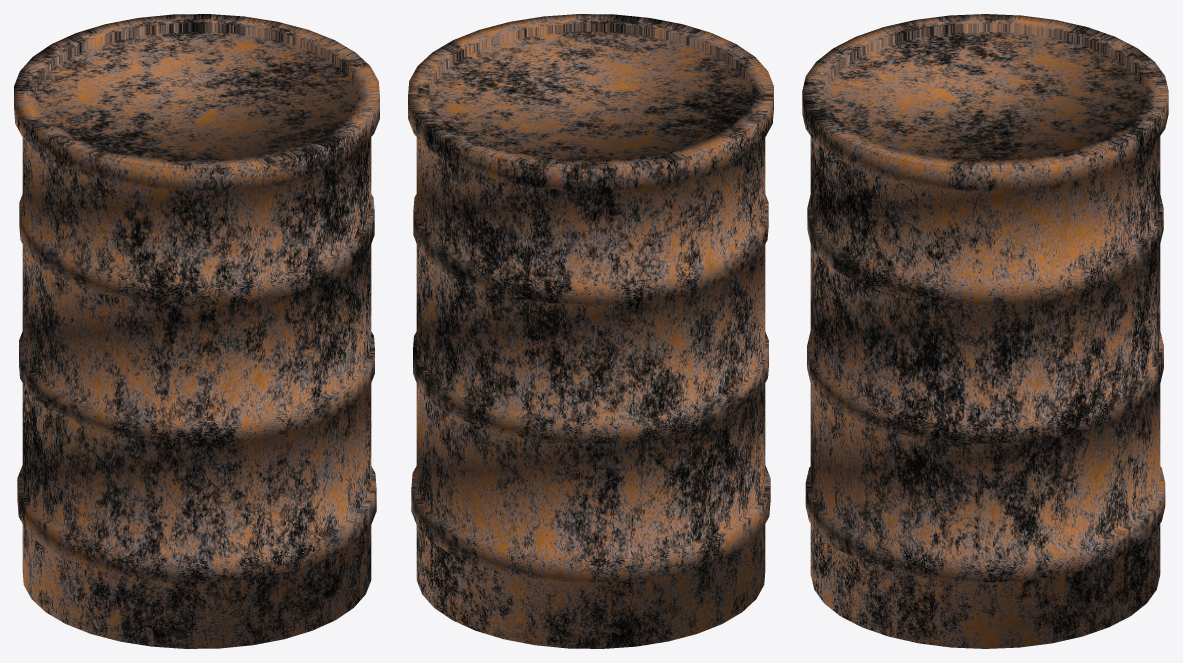
Rendered from sud.fbx.
3 renders of one model, left to right at view 1: azimuth 30°, elevation 25°; view 2: azimuth 150°, elevation 25°; view 3: azimuth 270°, elevation 25°, orthographic.
Visible parts, largest first — view 1: Cylinder.011; view 2: Cylinder.011; view 3: Cylinder.011.
Boxes of the visible parts, x1,y1,x2,y2 form: Cylinder.011: [14, 14, 379, 648]; Cylinder.011: [408, 14, 773, 648]; Cylinder.011: [802, 14, 1168, 648].
Size of the model in its own units: 153 by 222 by 153.
1 material, 1 textured.
